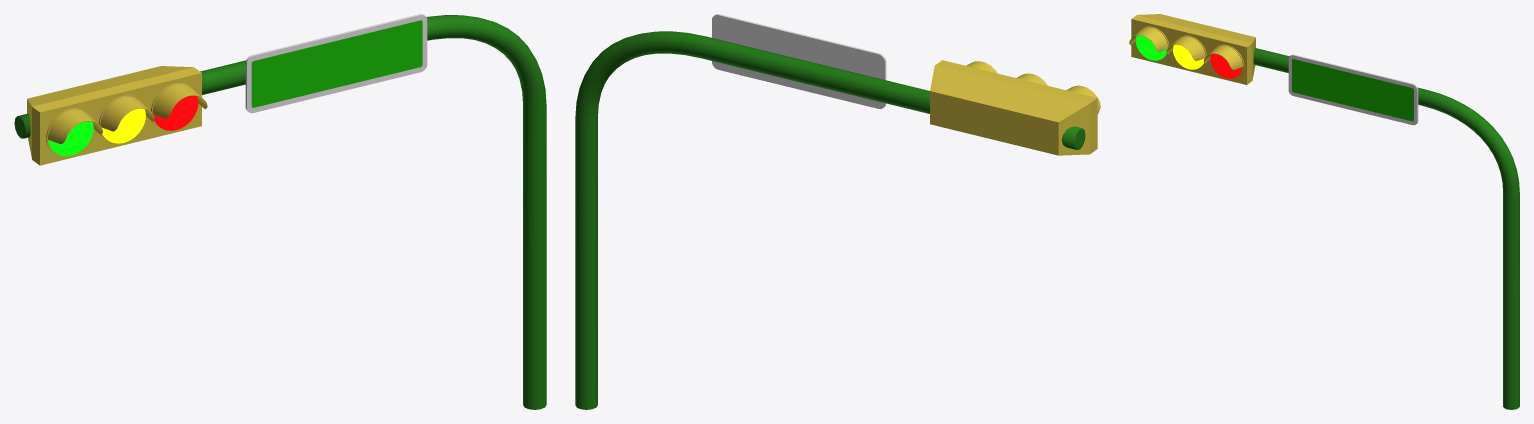
File: semaforo 1.fbx
The picture shows the model from 3 angles, left to right: view 1: azimuth 30°, elevation 25°; view 2: azimuth 150°, elevation 25°; view 3: azimuth 330°, elevation 25°; orthographic projection. The views are drawn at different scales.
Parts seen in each view (by area): view 1: Poste, Plane, Semaforo, Cubierta, verde, amarillo, rojo; view 2: Poste, Semaforo, Plane, Cubierta; view 3: Poste, Plane, Semaforo, Cubierta, rojo, verde, amarillo.
Part boxes in pixels (box(x1,y1,x2,y2)): Poste: box(14, 15, 546, 409); Plane: box(245, 14, 427, 113); Semaforo: box(27, 66, 201, 165); Cubierta: box(46, 82, 207, 156); verde: box(48, 121, 93, 156); amarillo: box(101, 108, 145, 143); rojo: box(154, 95, 198, 130); Poste: box(575, 31, 1085, 409); Semaforo: box(930, 60, 1097, 155); Plane: box(712, 14, 886, 108); Cubierta: box(966, 61, 1100, 113); Poste: box(1253, 48, 1519, 409); Plane: box(1288, 54, 1418, 125); Semaforo: box(1131, 14, 1255, 84); Cubierta: box(1129, 26, 1244, 79); rojo: box(1210, 53, 1242, 78); verde: box(1135, 35, 1167, 60); amarillo: box(1173, 44, 1204, 69).
Bounding box in the file's own units: 258 × 203 × 35.12.
